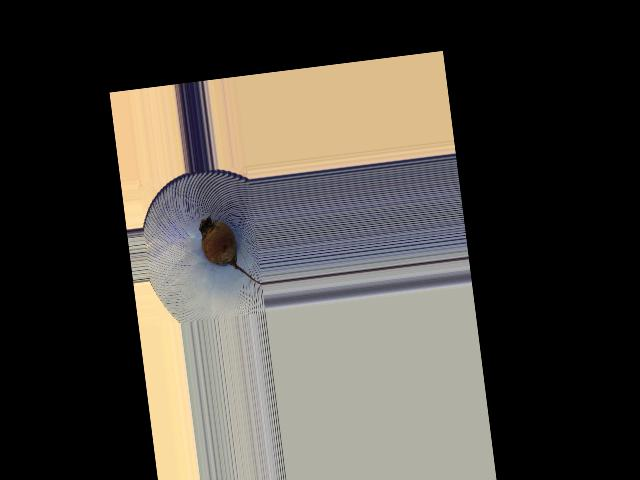beet: (198, 210, 262, 291)
